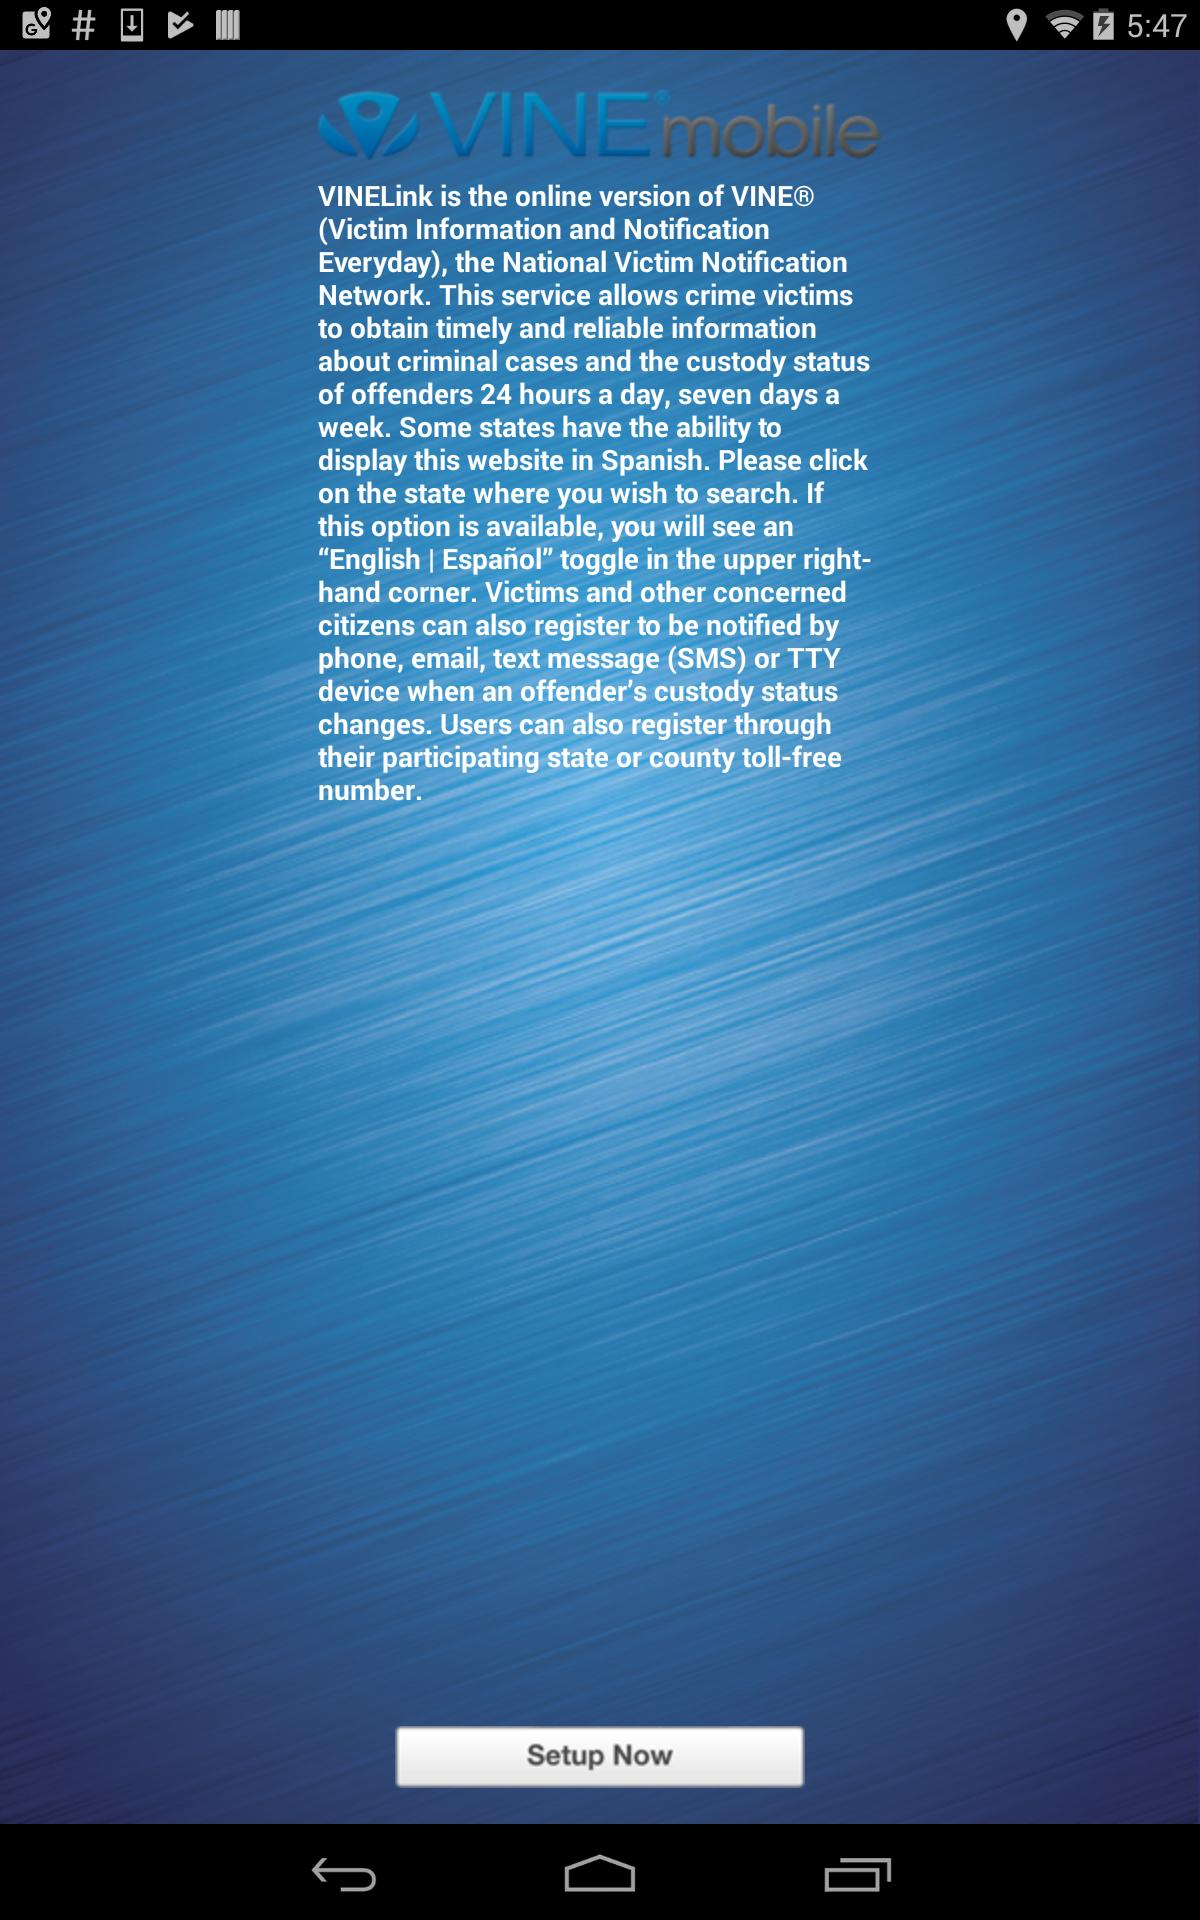android.widget.FrameLayout: (0, 0, 1200, 1825), (0, 50, 1200, 1825)
android.widget.ImageView: (0, 50, 1200, 1825), (318, 90, 882, 160), (395, 1726, 805, 1789)
android.widget.LinearLayout: (0, 0, 1200, 1825)
android.widget.RelativeLayout: (0, 50, 1200, 1825), (0, 80, 1200, 1726)
android.widget.TextView: (318, 176, 872, 1726)
